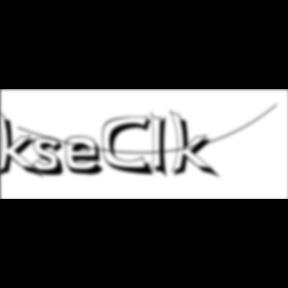C: (102, 115, 158, 178)
I: (151, 110, 175, 182)
e: (65, 135, 111, 178)
k: (170, 108, 222, 181), (0, 108, 46, 181)
s: (32, 137, 72, 179)
